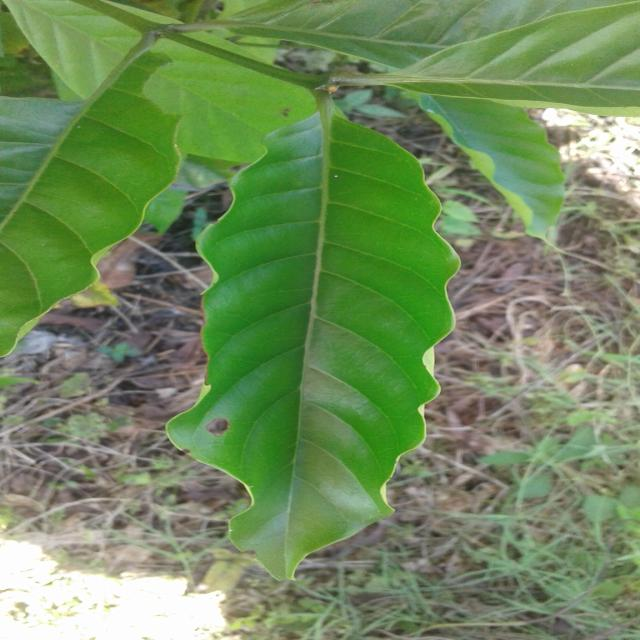Sanas: (164, 93, 462, 584)
